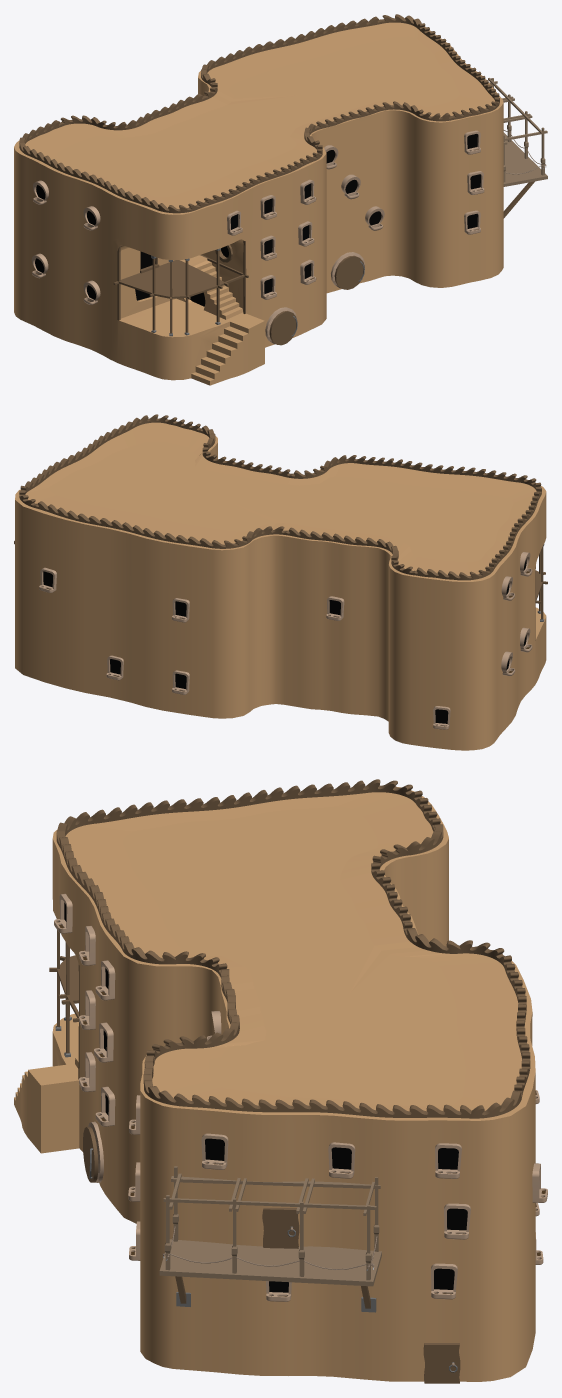
Rendered from residential_building_01_merged.fbx.
3 views of the same model, one above another, from view 1: azimuth 30°, elevation 25°; view 2: azimuth 150°, elevation 25°; view 3: azimuth 270°, elevation 25° (orthographic). The views are drawn at different scales.
Visible parts, largest first — view 1: residential_building_01, topper, windows_01, windows_02, doors_01, patio, patio_beams; view 2: residential_building_01, topper, windows_01, windows_02; view 3: residential_building_01, topper, windows_01, patio, patio_beams, doors_02, doors_01.
Boxes of the visible parts, x1=… form: residential_building_01: x1=14, y1=22, x2=503, y2=385; topper: x1=19, y1=14, x2=499, y2=213; windows_01: x1=227, y1=130, x2=484, y2=299; windows_02: x1=31, y1=145, x2=384, y2=304; doors_01: x1=265, y1=252, x2=365, y2=345; patio: x1=503, y1=132, x2=547, y2=186; patio_beams: x1=488, y1=78, x2=547, y2=182; residential_building_01: x1=15, y1=422, x2=547, y2=750; topper: x1=19, y1=414, x2=541, y2=580; windows_01: x1=39, y1=567, x2=450, y2=729; windows_02: x1=501, y1=552, x2=532, y2=676; residential_building_01: x1=14, y1=786, x2=535, y2=1381; topper: x1=56, y1=779, x2=530, y2=1118; windows_01: x1=54, y1=893, x2=547, y2=1301; patio: x1=159, y1=1239, x2=381, y2=1286; patio_beams: x1=163, y1=1166, x2=380, y2=1280; doors_02: x1=262, y1=1208, x2=460, y2=1383; doors_01: x1=83, y1=1121, x2=103, y2=1182.
Bounding box in the file's own units: 4682 × 1612 × 2881.
